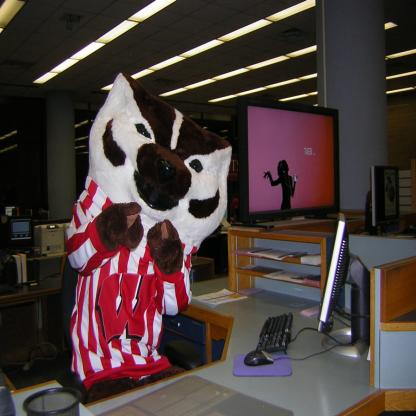book: (370, 163, 402, 229), (189, 286, 249, 308), (247, 243, 305, 261), (264, 268, 314, 285), (235, 262, 282, 275), (10, 254, 30, 284), (299, 252, 323, 266), (306, 272, 324, 286)
